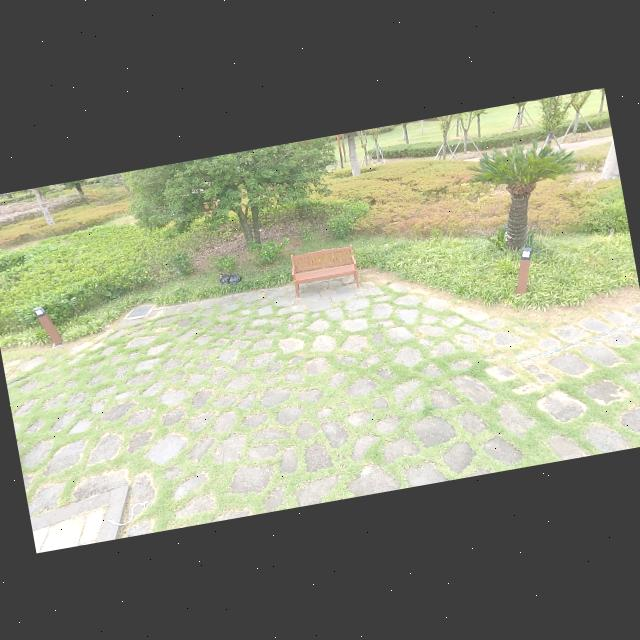trash: (225, 268, 244, 286), (218, 270, 230, 284)
